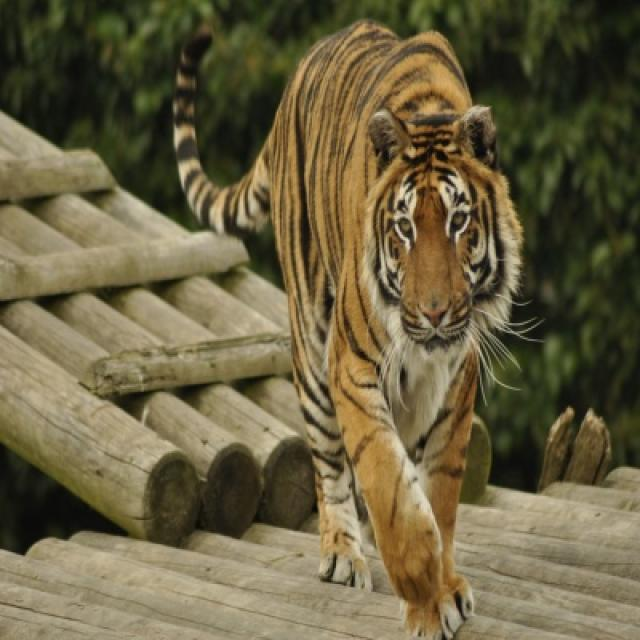Tiger: (174, 21, 522, 638)
